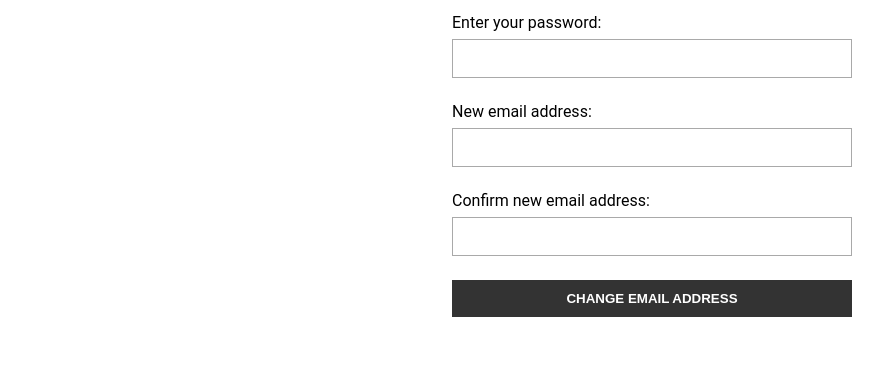
it: changes email when password correct
In the password field labelled "Enter your password:": (652, 58) [452,39,852,78], type "testPassword"
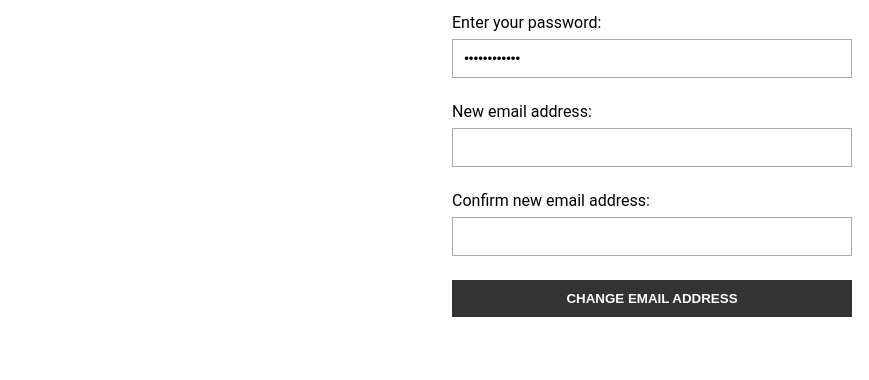
In the field labelled "New email address:": (652, 147) [452,128,852,167], type "test1@gmail.com"
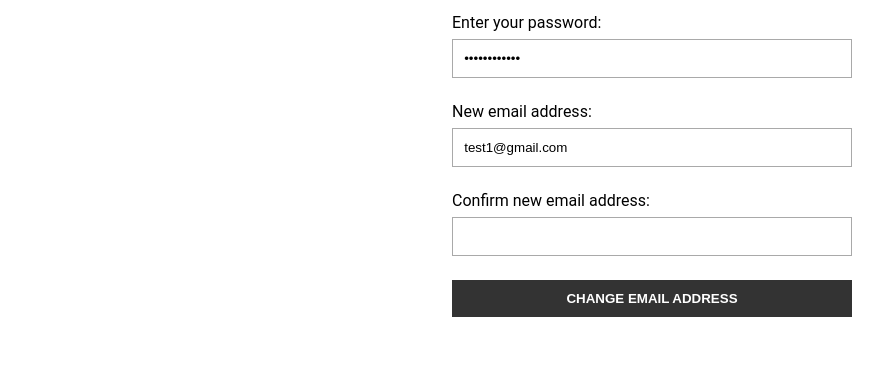
In the field labelled "Confirm new email address:": (652, 236) [452,217,852,256], type "test1@gmail.com"
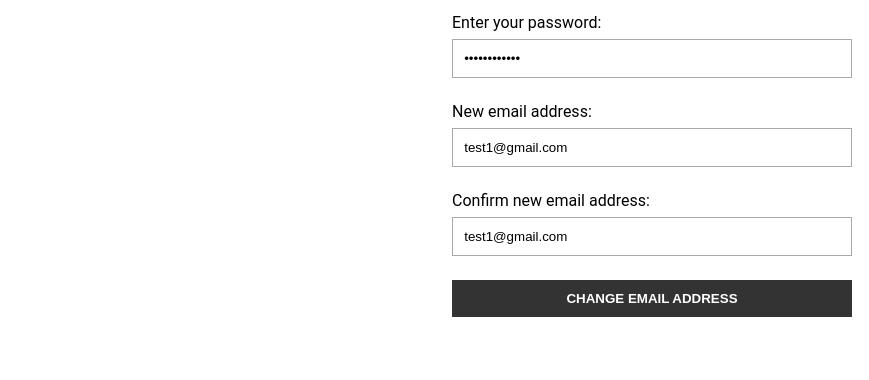
Click the button "Change email address": (652, 299) [452,280,852,318]
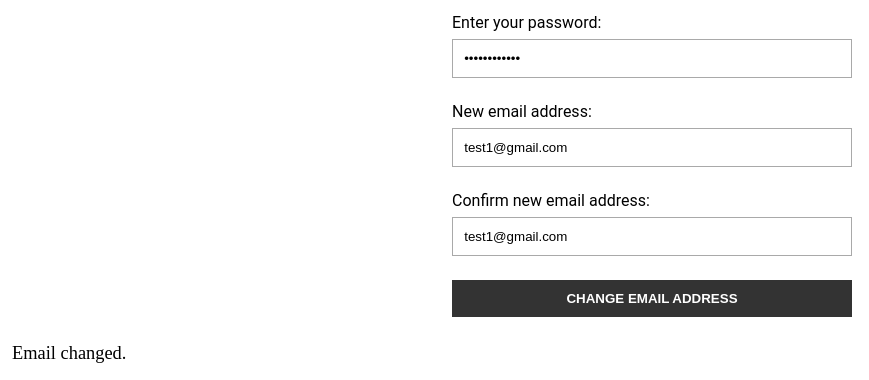
expect the text "Email changed." is shown: met, box [12,343,126,363]
